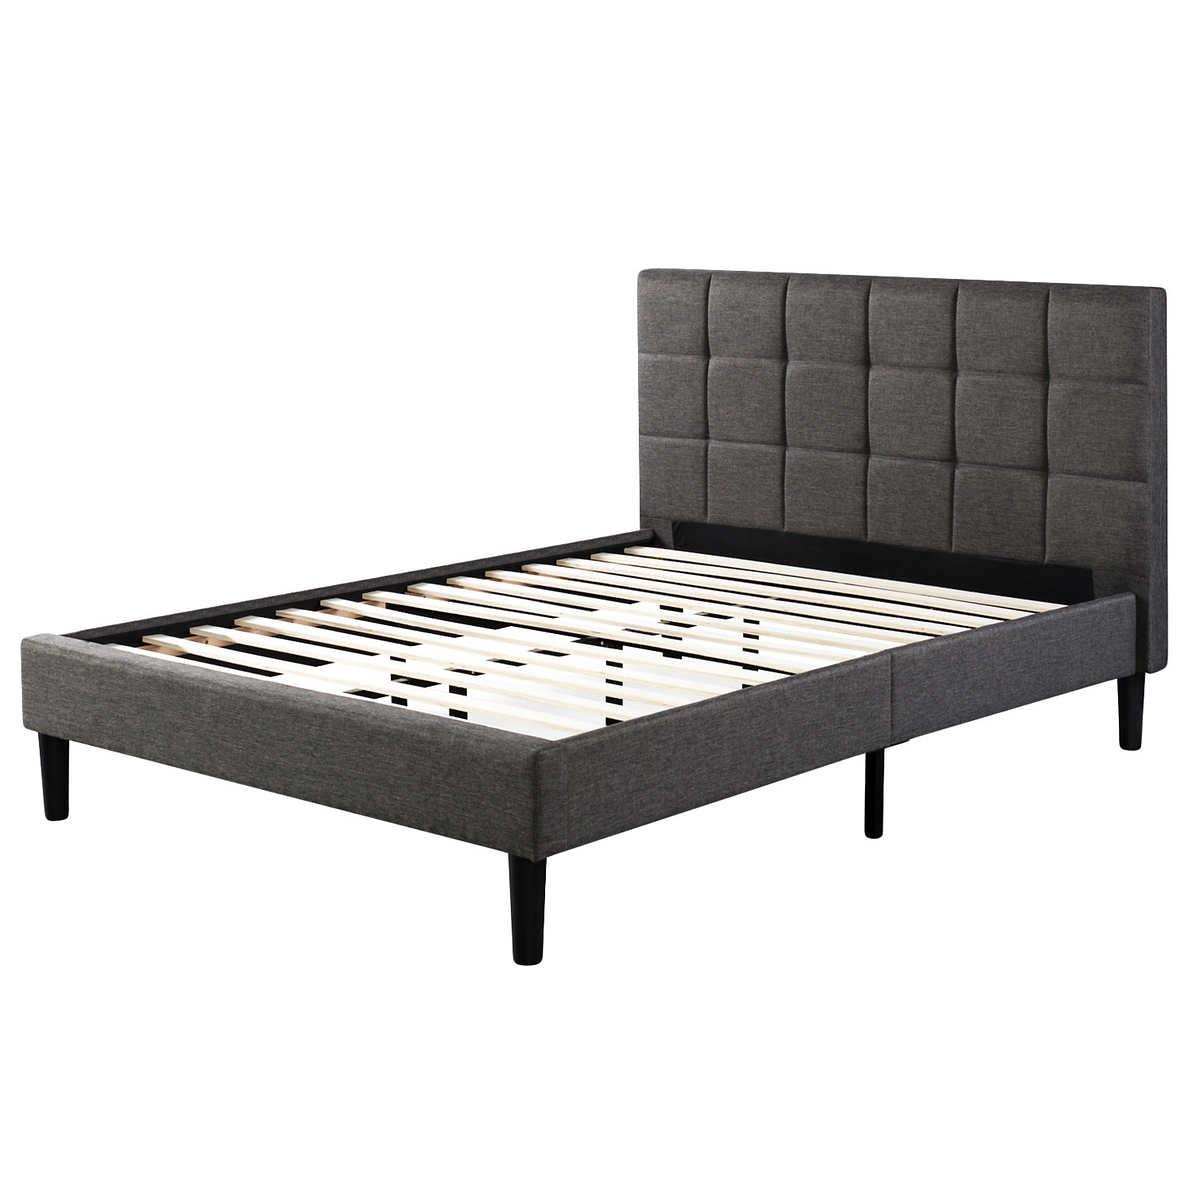bed: (90, 235, 1200, 865)
